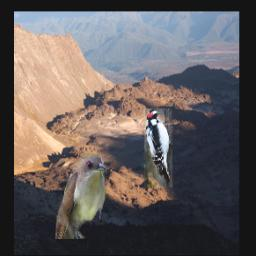Cuckoo: (56, 153, 108, 239)
Woodpecker: (144, 109, 173, 188)
